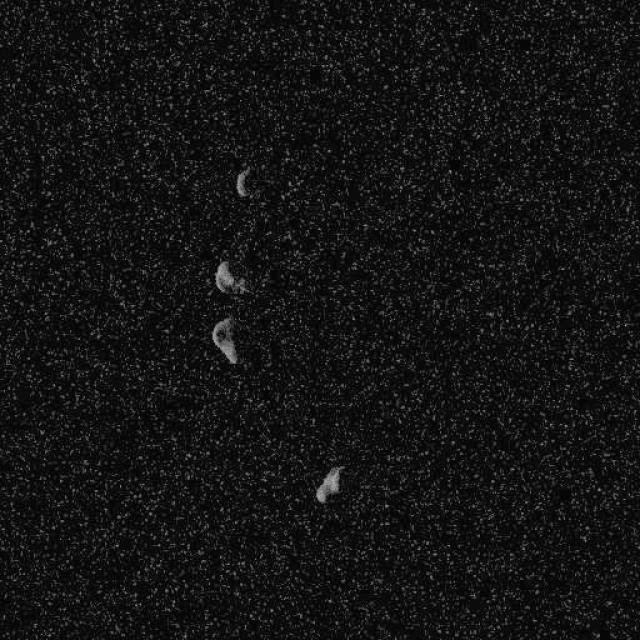D2: (210, 316, 238, 364), (212, 259, 248, 295), (314, 464, 344, 504), (234, 166, 251, 198)
